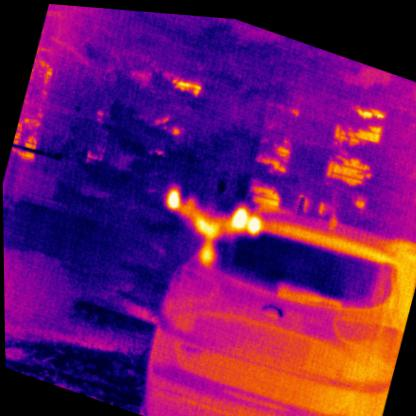drone: (148, 170, 266, 275)
vehicle: (127, 158, 415, 415)
